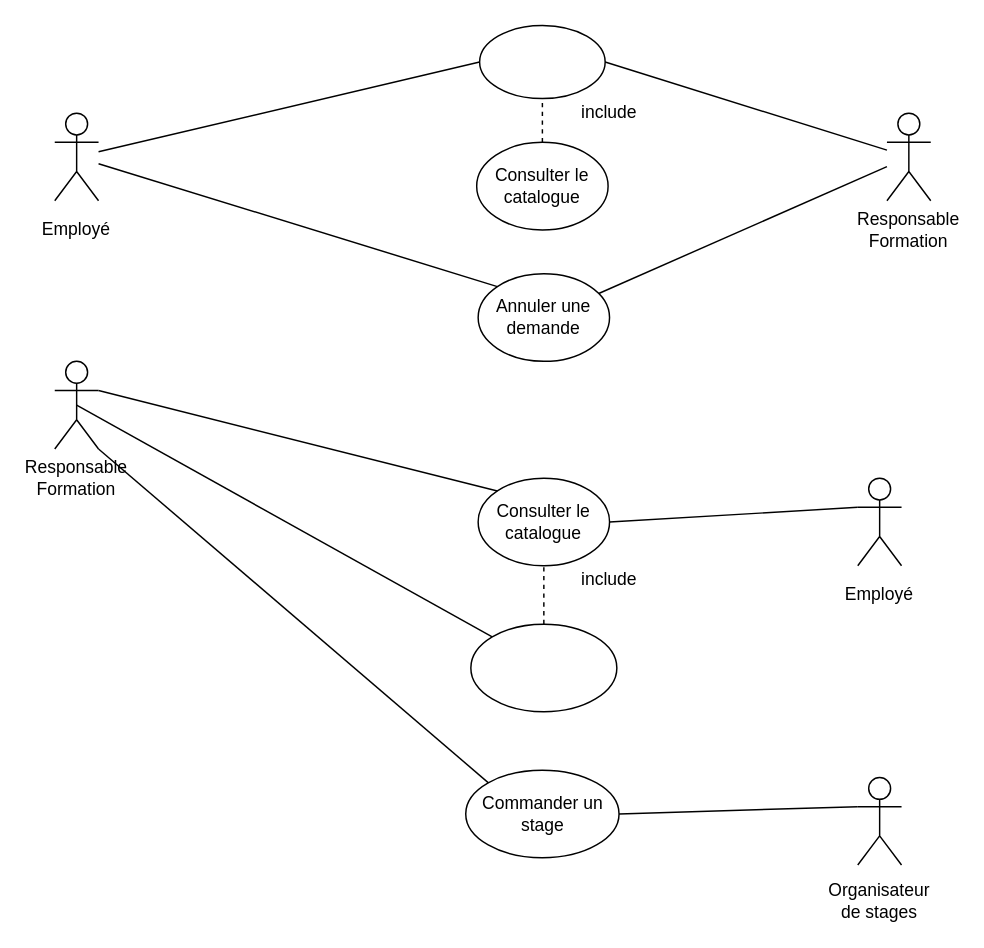
Image size: 984x948. Some labels were removed from this diagram. The shapes that lost their labels are listed below. From the top down, each one's centre as x and y in pixels, then its label:
At pixel 541 61: "Demande formation".
At pixel 543 667: "Maintenir le catalogue".
